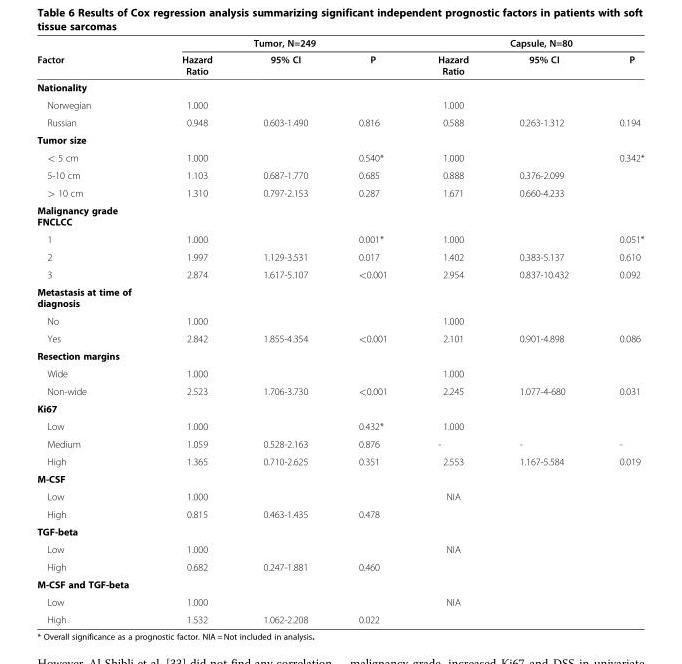table: (36, 36, 643, 624)
table column: (36, 36, 155, 624), (493, 36, 593, 624), (237, 36, 332, 624), (155, 36, 237, 624), (411, 36, 493, 624), (332, 36, 411, 624), (593, 36, 643, 624)
table column header: (36, 36, 643, 78)
table projected row header: (36, 201, 643, 230), (36, 282, 643, 311), (36, 130, 643, 148), (36, 346, 643, 364), (36, 399, 643, 417), (36, 469, 643, 487), (36, 522, 643, 540), (36, 78, 643, 95), (36, 575, 643, 592)
table row: (36, 201, 643, 230), (36, 282, 643, 311), (36, 50, 643, 78), (36, 95, 643, 113), (36, 130, 643, 148), (36, 148, 643, 166), (36, 183, 643, 201), (36, 247, 643, 265), (36, 311, 643, 329), (36, 346, 643, 364), (36, 364, 643, 382), (36, 399, 643, 417), (36, 434, 643, 452), (36, 469, 643, 487), (36, 487, 643, 505), (36, 522, 643, 540), (36, 557, 643, 575), (36, 592, 643, 610), (36, 78, 643, 95), (36, 113, 643, 130), (36, 166, 643, 183), (36, 230, 643, 247), (36, 265, 643, 282), (36, 329, 643, 346), (36, 382, 643, 399), (36, 417, 643, 434), (36, 452, 643, 469), (36, 505, 643, 522), (36, 540, 643, 557), (36, 575, 643, 592), (36, 36, 643, 50), (36, 610, 643, 624)
table spanning cell: (36, 36, 155, 78), (155, 36, 411, 50), (411, 36, 643, 50)
